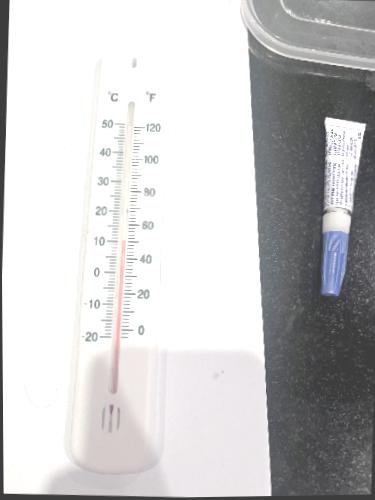thermo: (60, 46, 172, 460)
